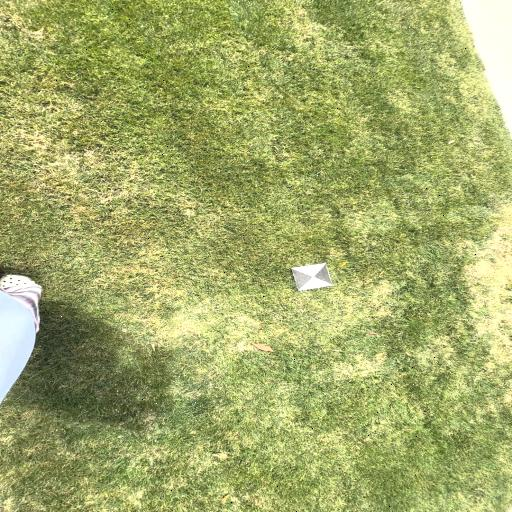target: (293, 264, 333, 290)
